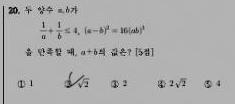choice: (63, 73, 76, 89)
not-choice: (202, 78, 213, 89), (109, 78, 119, 89), (156, 78, 166, 89), (16, 79, 26, 88)
